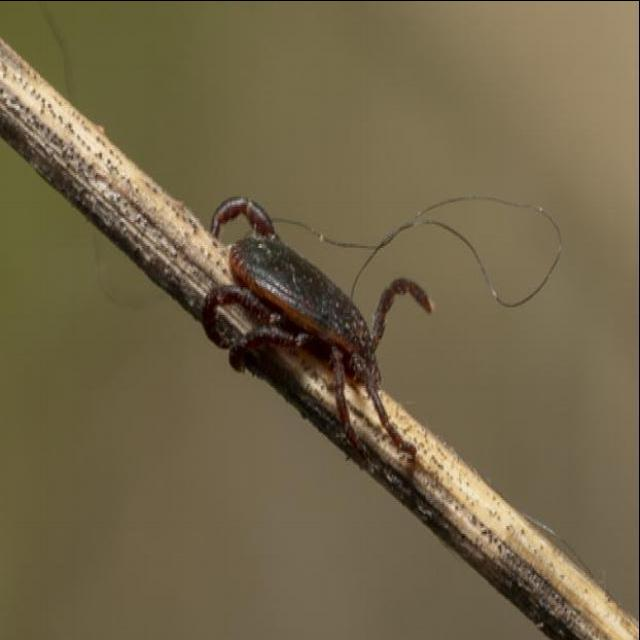Rhipicephalus Sanguineus-M: (191, 200, 435, 475)
